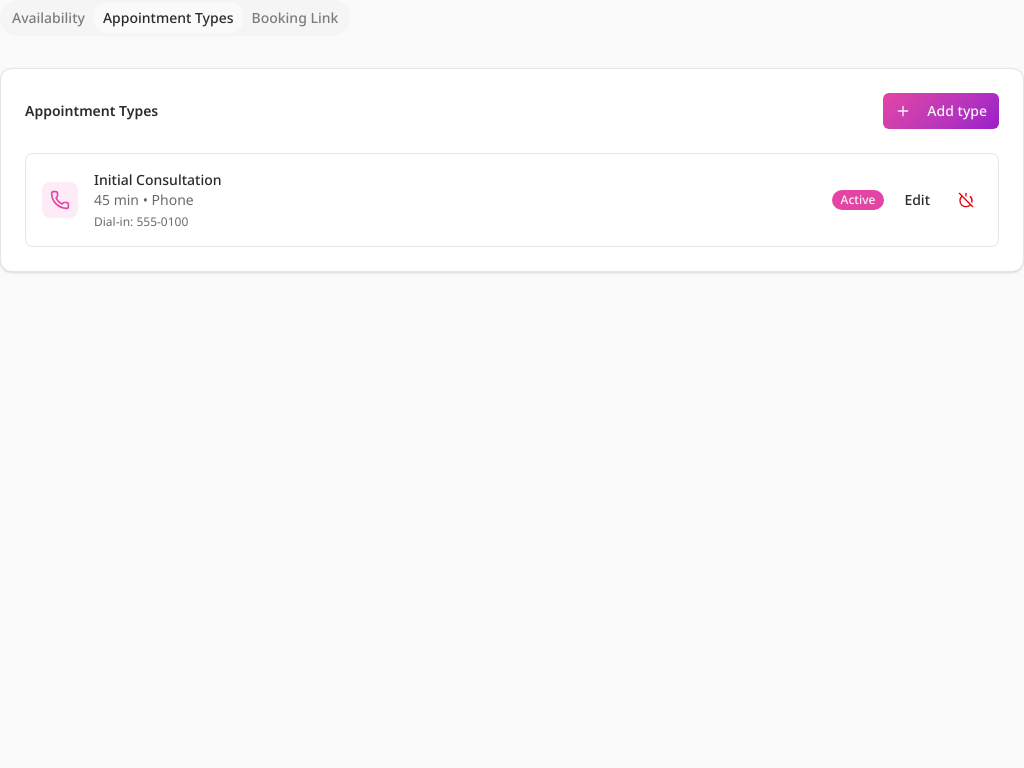
Appointment type client messages and workflows › offers the org templates but not scheduling's own default templates
Click the button "Edit" at (917, 200), box [892,184,942,216]
(page scrolled)
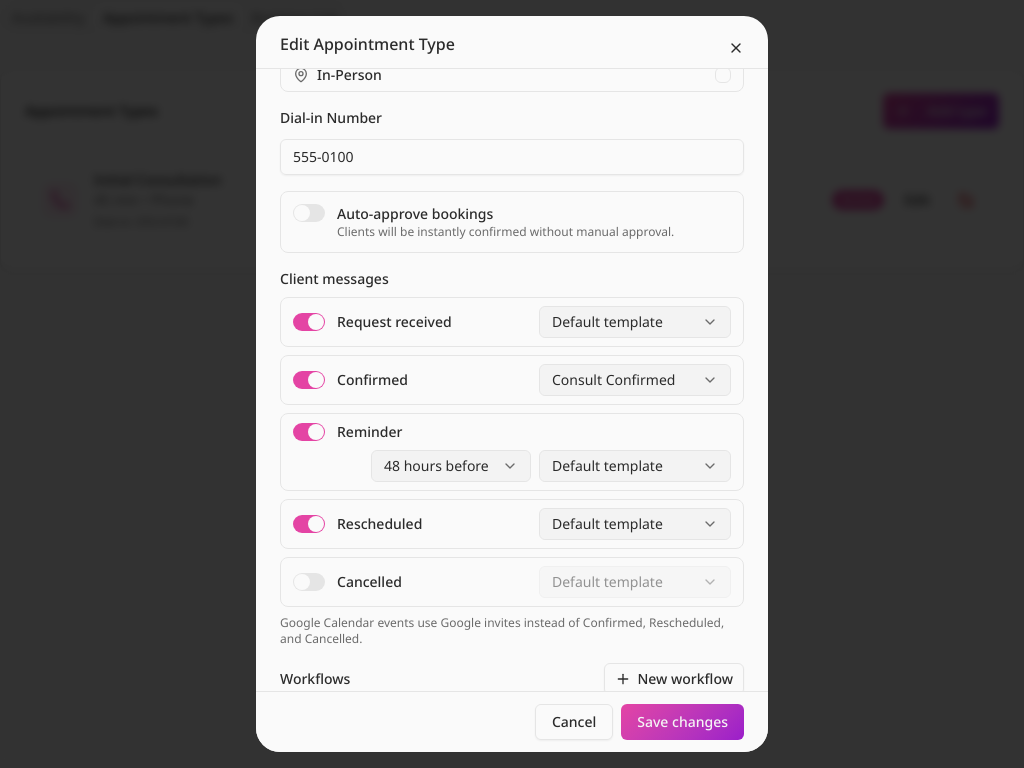
Click the dropdown named "Confirmed template" at (635, 380), box [539,364,731,396]
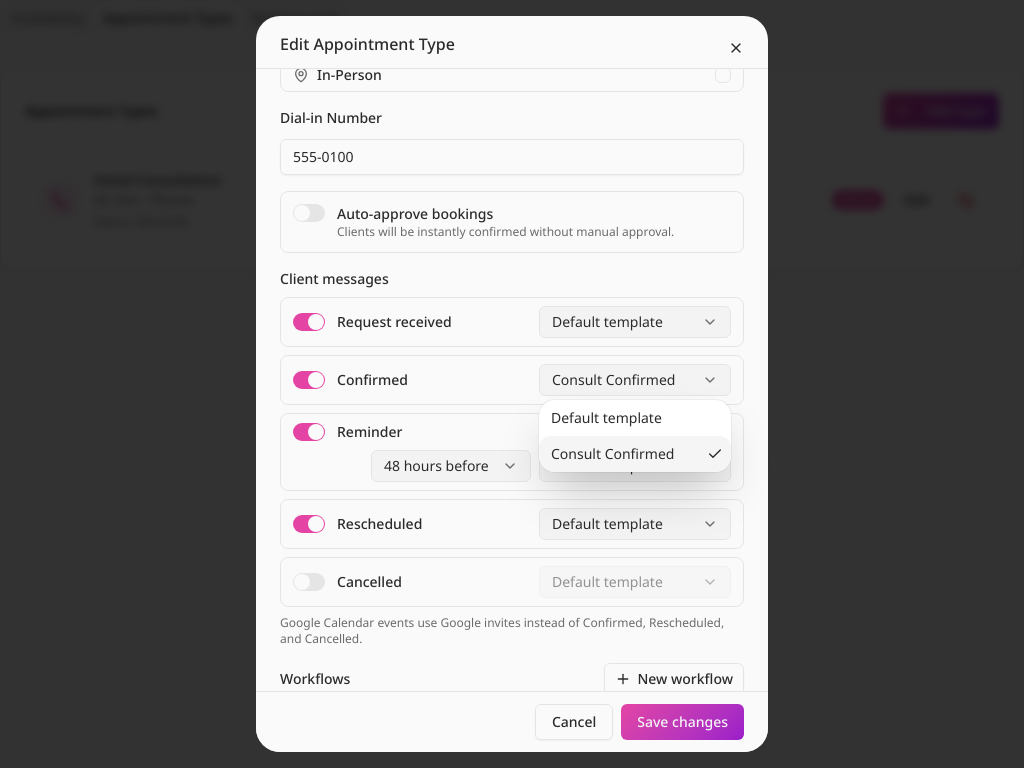
Now the option "Consult Confirmed" is shown, box [539,436,731,472]
Now the option "Default template" is shown, box [551,408,662,427]
